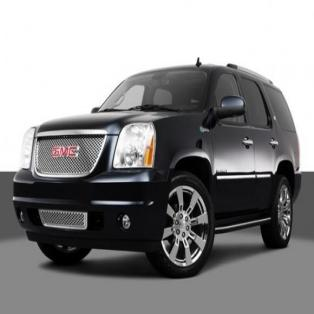Auto: (13, 56, 302, 280)
